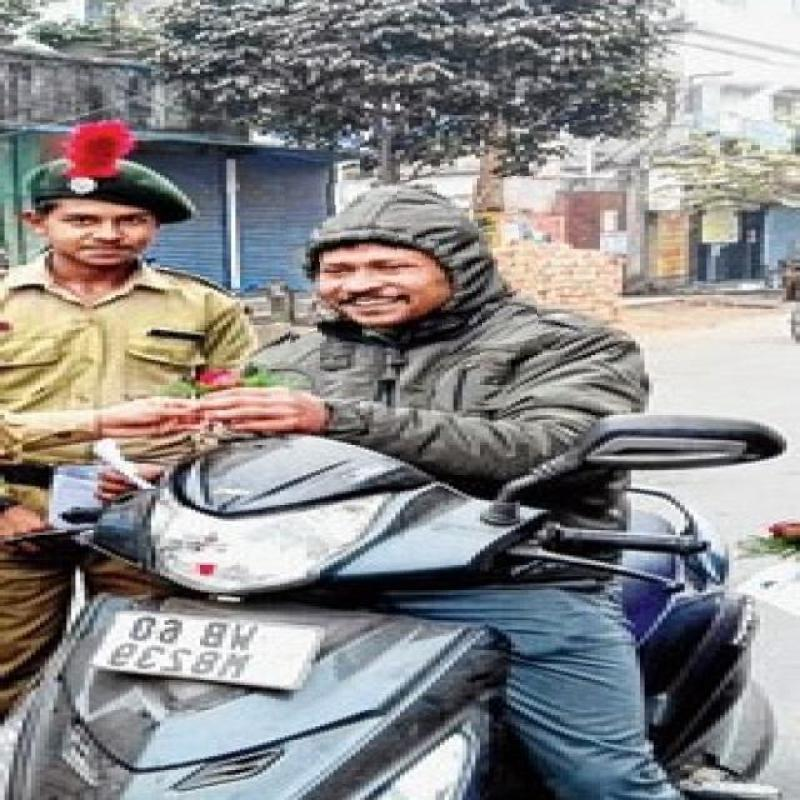nohelmet: (287, 178, 537, 342)
